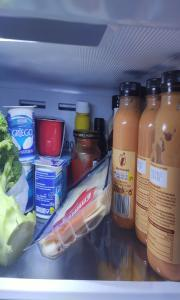Brocoli: (0, 112, 37, 270)
Yogur: (32, 155, 72, 220), (3, 104, 37, 160), (34, 116, 68, 158), (22, 162, 35, 215)
